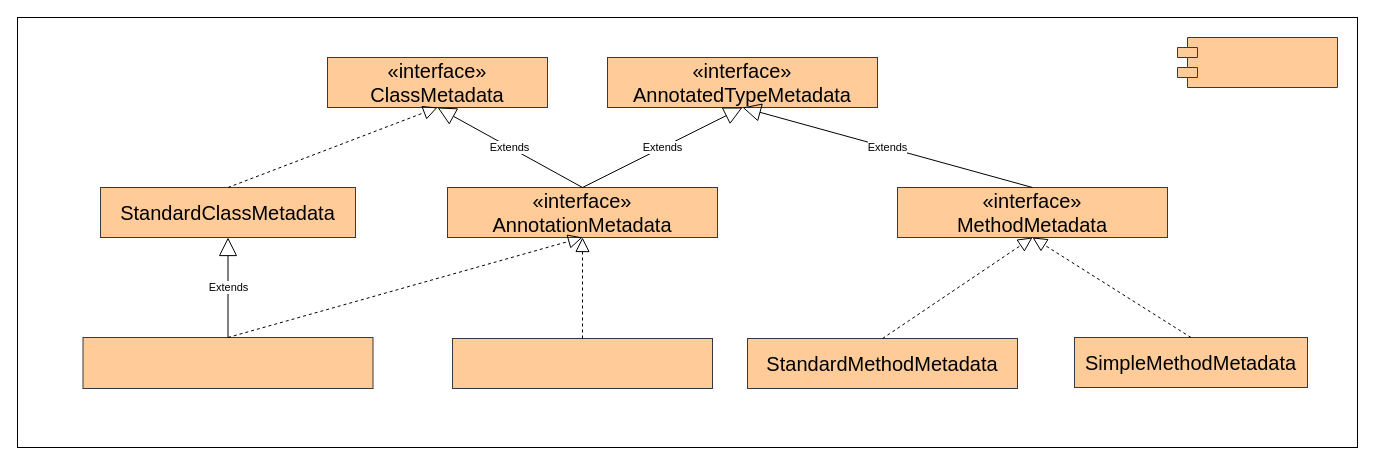
Image size: 1375x465. Some labels were removed from this diagram. The shapes that lost their labels are listed below. From the top down, each one's centre as x and y in pixels, then its label:
(x=1257, y=62): spring
(x=227, y=362): StandardAnnotationMetadata
(x=582, y=363): SimpleAnnotationMetadata
